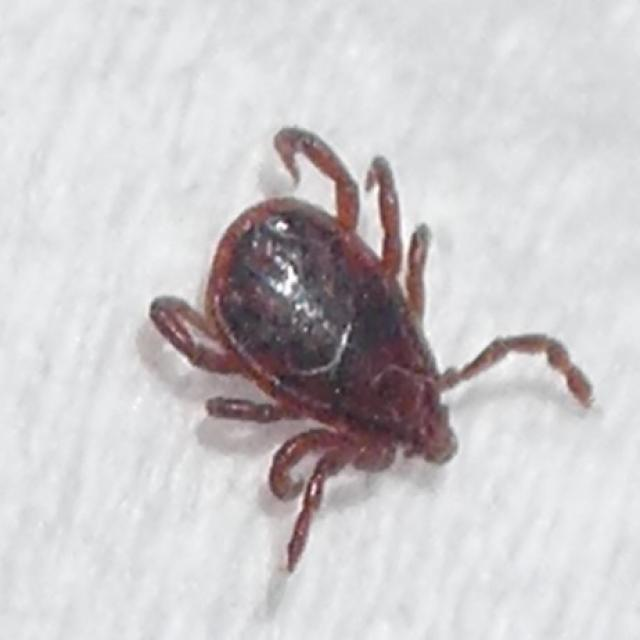Rhipicephalus Sanguineus-M: (148, 128, 596, 575)
